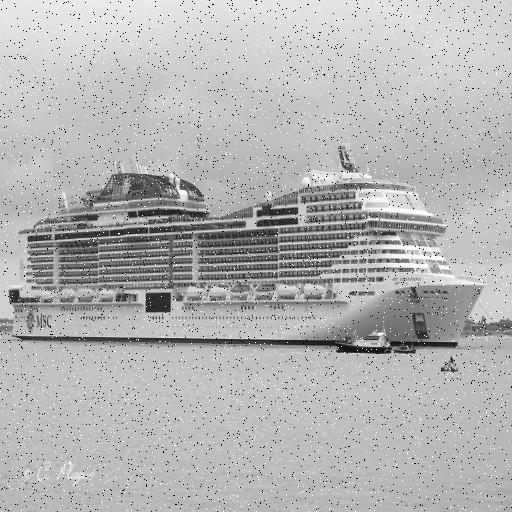cruises: (8, 136, 486, 348)
